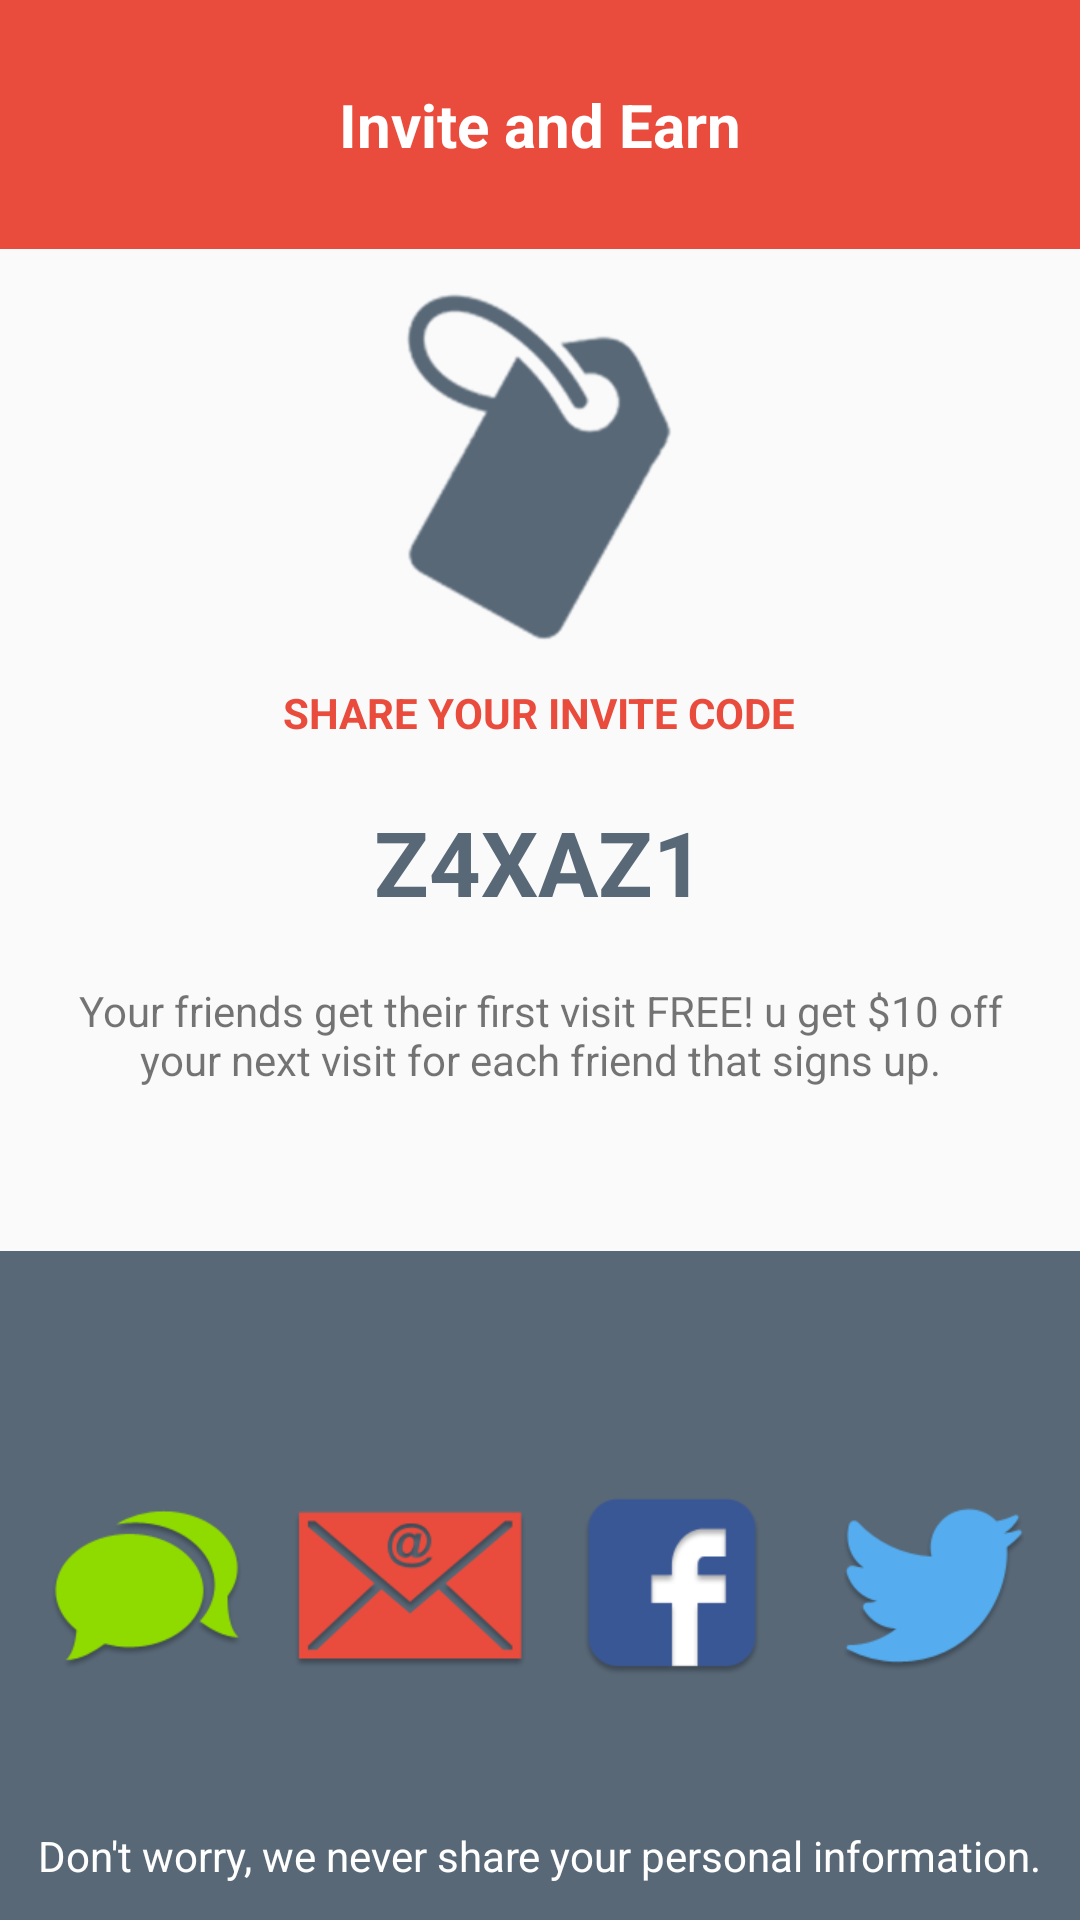

Point at icon controls on the screen. Image size 1080x1920, points as point (x, y).
live chat: point (146, 1586)
message envelop: point (410, 1586)
promo tag: point (539, 467)
